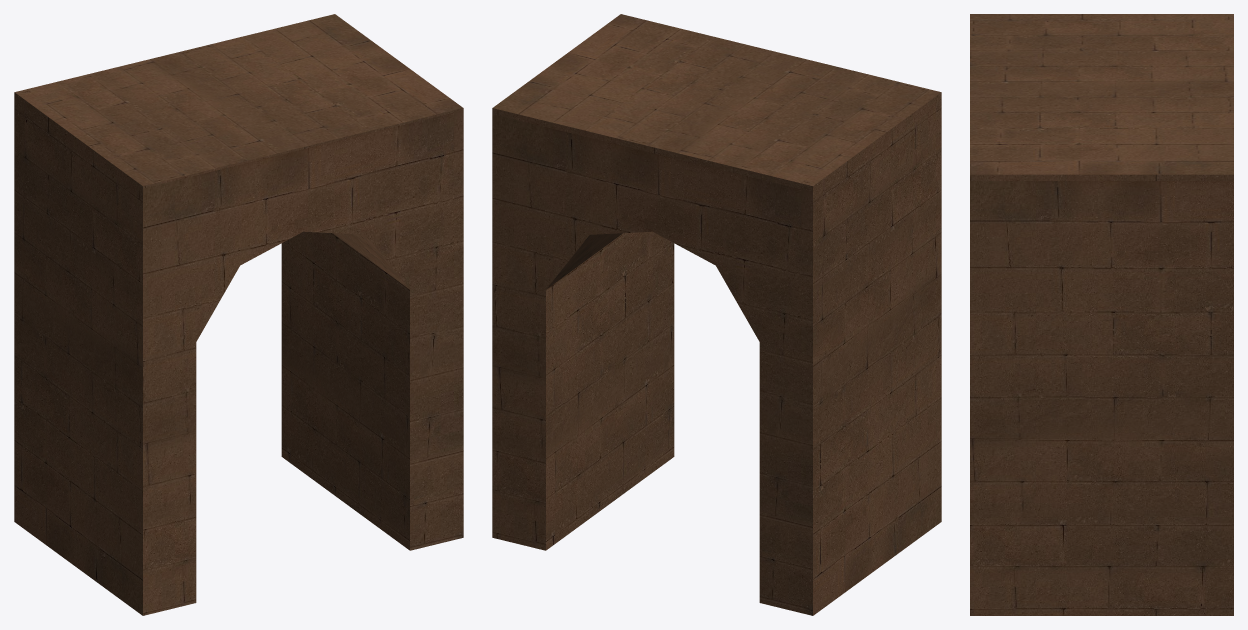
Rendered from CellarArchway.glb.
The picture shows the model from 3 angles, left to right: view 1: azimuth 30°, elevation 25°; view 2: azimuth 150°, elevation 25°; view 3: azimuth 270°, elevation 25°; orthographic projection. The views are drawn at different scales.
Parts seen in each view (by area): view 1: Archway; view 2: Archway; view 3: Archway.
Boxes of the visible parts, left/top/right/bottom form: Archway: left=14, top=14, right=463, bottom=615; Archway: left=492, top=14, right=941, bottom=615; Archway: left=970, top=14, right=1233, bottom=615.
Size of the model in its own units: 2 by 2.56 by 1.39.
1 material, 1 textured.
